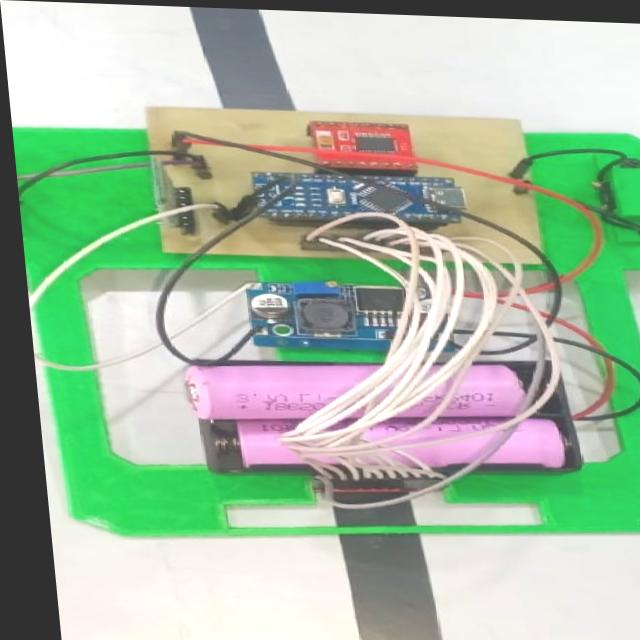vehicle: (10, 106, 640, 516)
